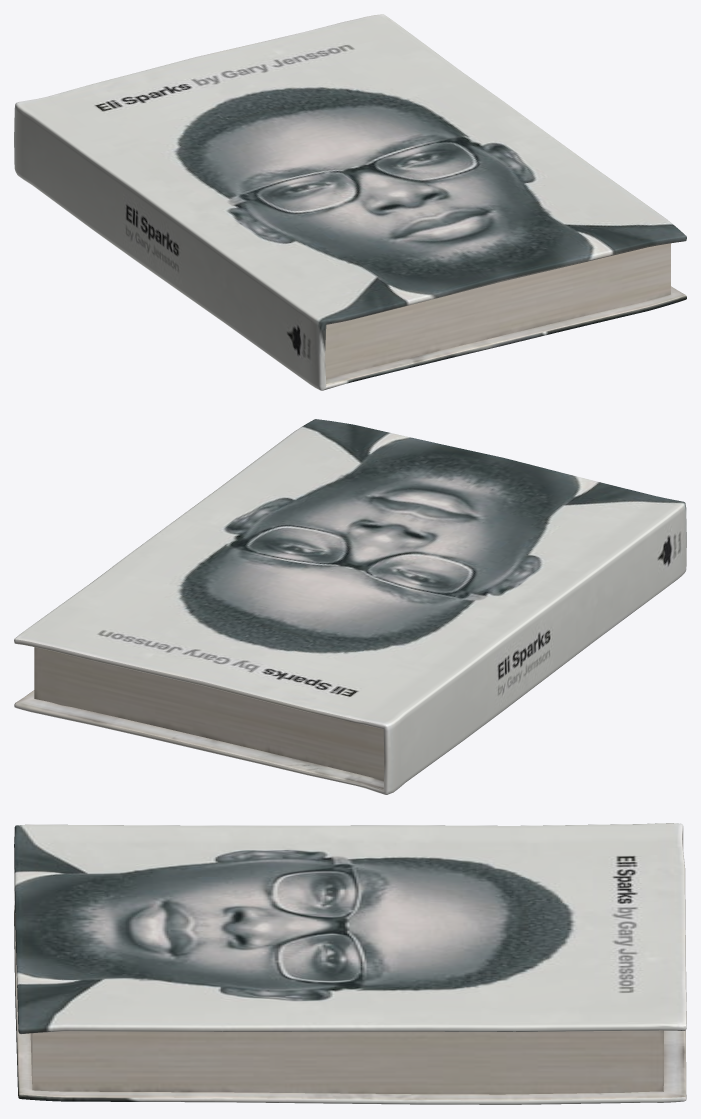
The model's file is book.glb.
3 renders of one model, top to bottom at view 1: azimuth 30°, elevation 25°; view 2: azimuth 150°, elevation 25°; view 3: azimuth 270°, elevation 25°, orthographic. The views are drawn at different scales.
Parts seen in each view (by area): view 1: Book; view 2: Book; view 3: Book.
Part boxes in pixels (x1,y1,x2,y2): Book: [14, 14, 686, 390]; Book: [14, 419, 686, 794]; Book: [14, 823, 686, 1104].
Bounding box in the file's own units: 18.5 × 3.58 × 25.97.
Materials: 1 (1 with a texture image).
